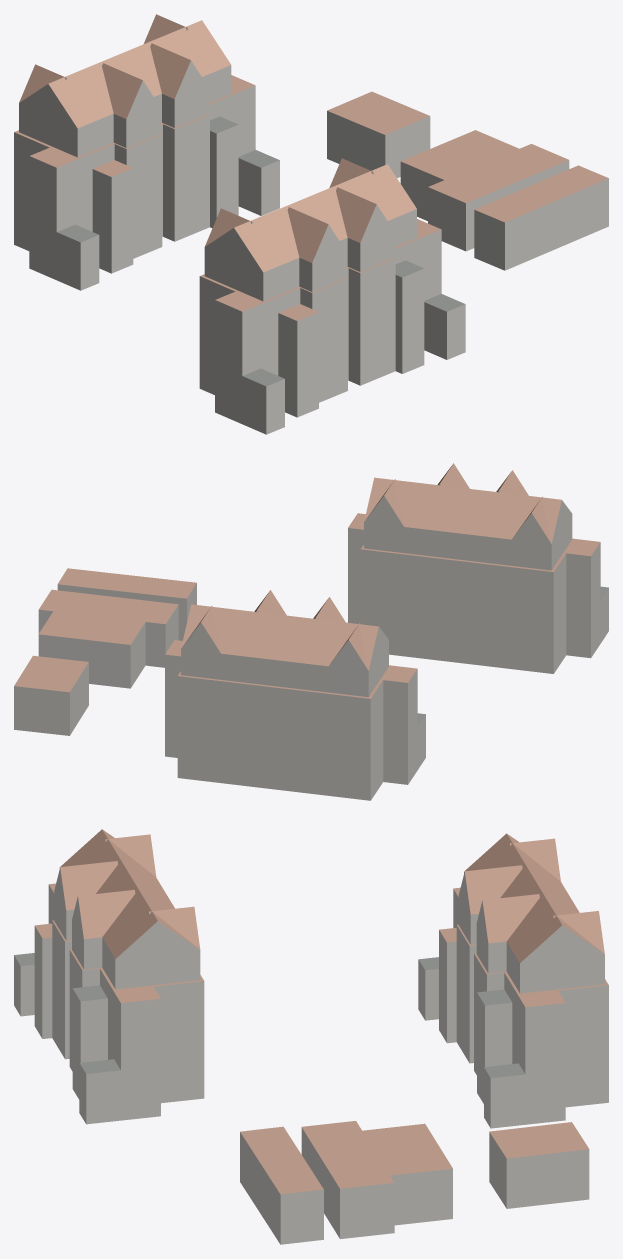
Rendered from gridID_57.dae.
3 renders of one model, top to bottom at view 1: azimuth 30°, elevation 25°; view 2: azimuth 150°, elevation 25°; view 3: azimuth 270°, elevation 25°, orthographic. The views are drawn at different scales.
Visible parts, largest first — view 1: model_gridID_57_w383809394, model_gridID_57_w379075764, model_gridID_57_w379069955_001, model_gridID_57_w379069960, model_gridID_57_w379069957, model_gridID_57_w379069947; view 2: model_gridID_57_w379075764, model_gridID_57_w383809394, model_gridID_57_w379069947, model_gridID_57_w379069957, model_gridID_57_w379069960, model_gridID_57_w379069955_001; view 3: model_gridID_57_w383809394, model_gridID_57_w379075764, model_gridID_57_w379069960, model_gridID_57_w379069957, model_gridID_57_w379069955_001, model_gridID_57_w379069947.
Part boxes in pixels (x1,y1,x2,y2): model_gridID_57_w383809394: [199, 158, 465, 434]; model_gridID_57_w379075764: [14, 14, 279, 290]; model_gridID_57_w379069955_001: [474, 165, 608, 270]; model_gridID_57_w379069960: [428, 144, 569, 251]; model_gridID_57_w379069957: [327, 91, 430, 178]; model_gridID_57_w379069947: [400, 130, 518, 220]; model_gridID_57_w379075764: [165, 590, 425, 800]; model_gridID_57_w383809394: [348, 463, 608, 673]; model_gridID_57_w379069947: [38, 611, 145, 688]; model_gridID_57_w379069957: [14, 655, 88, 735]; model_gridID_57_w379069960: [38, 589, 178, 667]; model_gridID_57_w379069955_001: [57, 568, 196, 640]; model_gridID_57_w383809394: [14, 829, 204, 1124]; model_gridID_57_w379075764: [418, 833, 608, 1128]; model_gridID_57_w379069960: [301, 1121, 394, 1239]; model_gridID_57_w379069957: [489, 1122, 589, 1208]; model_gridID_57_w379069955_001: [240, 1126, 323, 1244]; model_gridID_57_w379069947: [362, 1123, 452, 1225].
Bounding box in the file's own units: 79.05 × 80.35 × 27.
